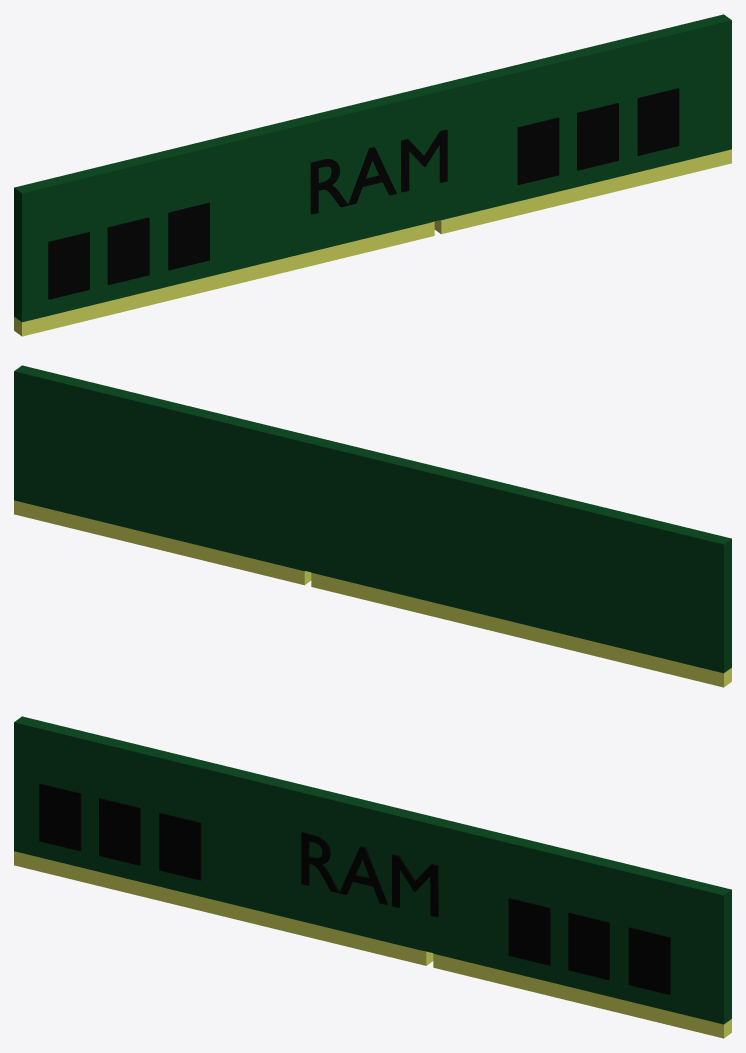
Rendered from ram.gltf.
3 views of the same model, one above another, from view 1: azimuth 30°, elevation 25°; view 2: azimuth 150°, elevation 25°; view 3: azimuth 330°, elevation 25° (orthographic).
Parts seen in each view (by area): view 1: Cube, Text, Cube.002, Cube.006, Cube.004, Cube.001, Cube.003, Cube.005; view 2: Cube; view 3: Cube, Text, Cube.001, Cube.003, Cube.006, Cube.004, Cube.005, Cube.002.
Part boxes in pixels (x1,y1,x2,y2): Cube: [14, 14, 731, 336]; Text: [310, 129, 447, 214]; Cube.002: [107, 217, 149, 285]; Cube.006: [517, 117, 559, 185]; Cube.004: [637, 88, 679, 155]; Cube.001: [48, 232, 89, 299]; Cube.003: [168, 202, 209, 270]; Cube.005: [577, 103, 618, 170]; Cube: [14, 365, 731, 687]; Cube: [14, 716, 731, 1038]; Text: [301, 832, 438, 917]; Cube.001: [39, 783, 81, 851]; Cube.003: [159, 813, 201, 880]; Cube.006: [508, 898, 550, 965]; Cube.004: [628, 927, 670, 994]; Cube.005: [568, 912, 609, 980]; Cube.002: [99, 798, 140, 865].
Size of the model in its own units: 9.93 by 1.91 by 0.2242.
